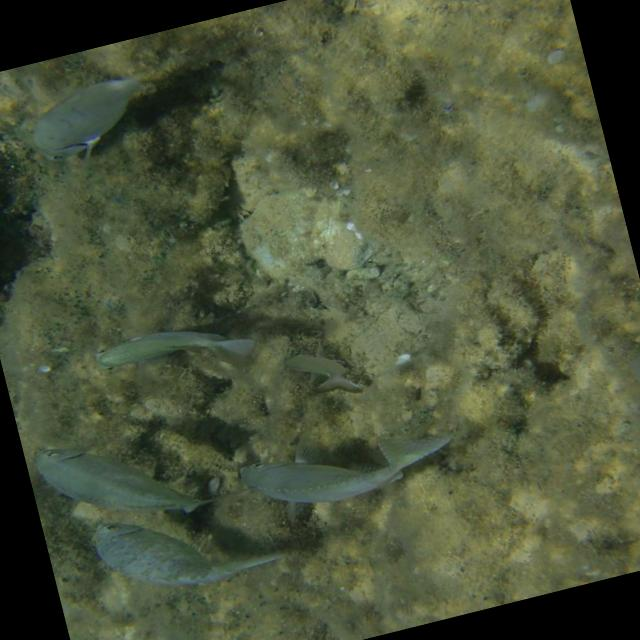Sokar Baligi: (214, 396, 474, 534), (0, 55, 184, 182), (74, 310, 262, 400)
